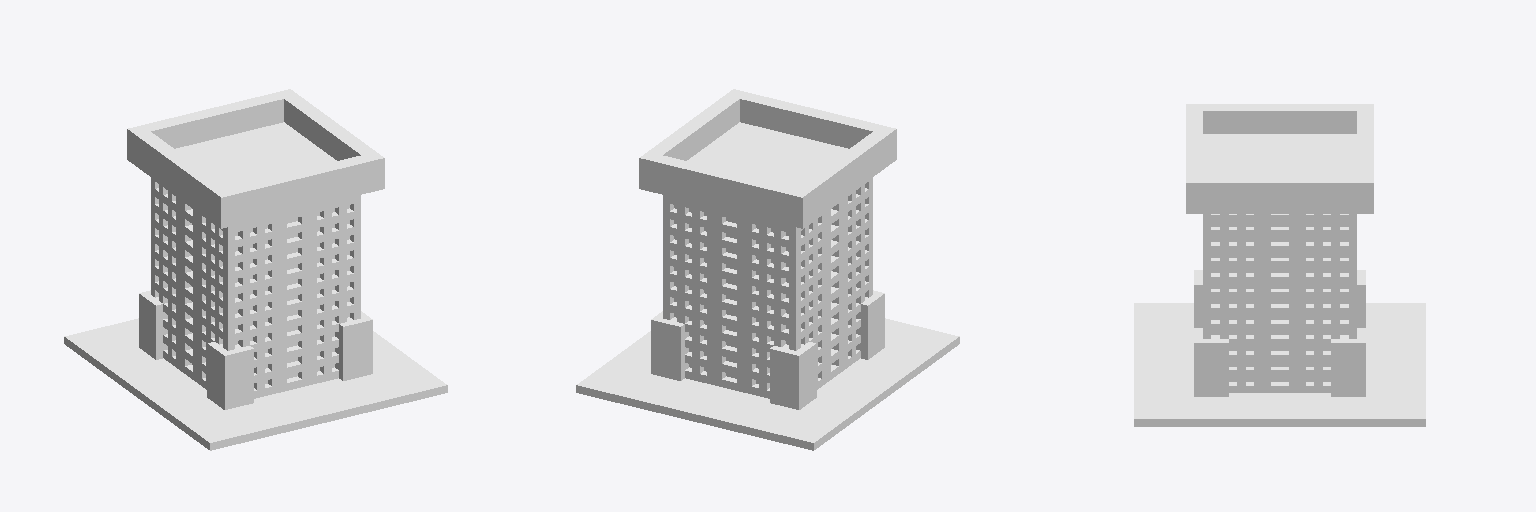
The model's file is building2_black_n_white.obj.
3 renders of one model, left to right at view 1: azimuth 30°, elevation 25°; view 2: azimuth 150°, elevation 25°; view 3: azimuth 270°, elevation 25°, orthographic.
Visible parts, largest first — view 1: building2_black_n_white; view 2: building2_black_n_white; view 3: building2_black_n_white.
Boxes of the visible parts, x1=… form: building2_black_n_white: x1=64, y1=89, x2=447, y2=450; building2_black_n_white: x1=576, y1=89, x2=959, y2=450; building2_black_n_white: x1=1134, y1=104, x2=1425, y2=426.
Bounding box in the file's own units: 32 × 29 × 34.